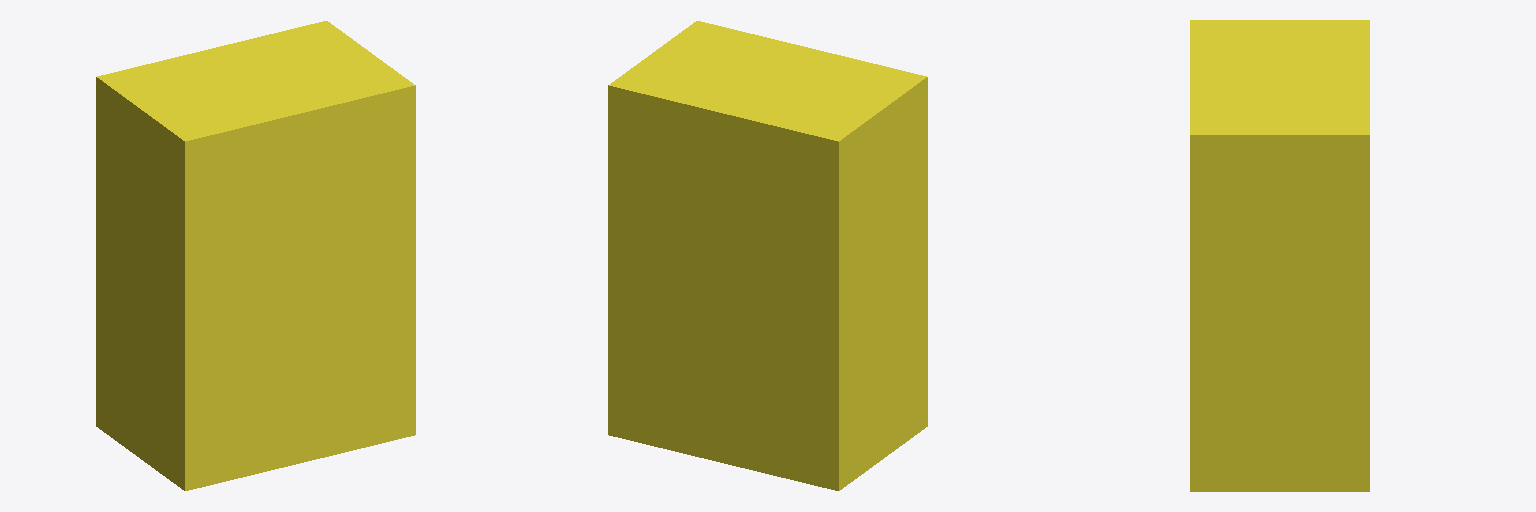
The robot description file, URDF, robot "ur5":
<?xml version="1.0" ?>
<!-- =================================================================================== -->
<!-- |    This document was autogenerated by xacro from ur5_joint_limited_box_robot_robotiq3.urdf.xacro | -->
<!-- |    EDITING THIS FILE BY HAND IS NOT RECOMMENDED                                 | -->
<!-- =================================================================================== -->
<robot name="ur5" xmlns:xacro="http://ros.org/wiki/xacro">
  <gazebo>
    <plugin filename="libgazebo_ros_control.so" name="ros_control">
      <!--robotNamespace>/</robotNamespace-->
      <!--robotSimType>gazebo_ros_control/DefaultRobotHWSim</robotSimType-->
    </plugin>
    <!--
    <plugin name="gazebo_ros_power_monitor_controller" filename="libgazebo_ros_power_monitor.so">
      <alwaysOn>true</alwaysOn>
      <updateRate>1.0</updateRate>
      <timeout>5</timeout>
      <powerStateTopic>power_state</powerStateTopic>
      <powerStateRate>10.0</powerStateRate>
      <fullChargeCapacity>87.78</fullChargeCapacity>     
      <dischargeRate>-474</dischargeRate>
      <chargeRate>525</chargeRate>
      <dischargeVoltage>15.52</dischargeVoltage>
      <chargeVoltage>16.41</chargeVoltage>
    </plugin>
-->
  </gazebo>
  <!-- measured from model -->
  <!--property name="shoulder_height" value="0.089159" /-->
  <!--property name="shoulder_offset" value="0.13585" /-->
  <!-- shoulder_offset - elbow_offset + wrist_1_length = 0.10915 -->
  <!--property name="upper_arm_length" value="0.42500" /-->
  <!--property name="elbow_offset" value="0.1197" /-->
  <!-- CAD measured -->
  <!--property name="forearm_length" value="0.39225" /-->
  <!--property name="wrist_1_length" value="0.093" /-->
  <!-- CAD measured -->
  <!--property name="wrist_2_length" value="0.09465" /-->
  <!-- In CAD this distance is 0.930, but in the spec it is 0.09465 -->
  <!--property name="wrist_3_length" value="0.0823" /-->
  <!-- manually measured -->
  <link name="base_link">
    <visual>
      <geometry>
        <mesh filename="package://ur_description/meshes/ur5/visual/base.dae"/>
      </geometry>
      <material name="LightGrey">
        <color rgba="0.7 0.7 0.7 1.0"/>
      </material>
    </visual>
    <collision>
      <geometry>
        <mesh filename="package://ur_description/meshes/ur5/collision/base.stl"/>
      </geometry>
    </collision>
    <inertial>
      <mass value="4.0"/>
      <origin rpy="0 0 0" xyz="0.0 0.0 0.0"/>
      <inertia ixx="0.00443333156" ixy="0.0" ixz="0.0" iyy="0.00443333156" iyz="0.0" izz="0.0072"/>
    </inertial>
  </link>
  <joint name="shoulder_pan_joint" type="revolute">
    <parent link="base_link"/>
    <child link="shoulder_link"/>
    <origin rpy="0.0 0.0 0.0" xyz="0.0 0.0 0.089159"/>
    <axis xyz="0 0 1"/>
    <limit effort="150.0" lower="-3.14159265" upper="3.14159265" velocity="3.15"/>
    <dynamics damping="0.0" friction="0.0"/>
  </joint>
  <link name="shoulder_link">
    <visual>
      <geometry>
        <mesh filename="package://ur_description/meshes/ur5/visual/shoulder.dae"/>
      </geometry>
      <material name="LightGrey">
        <color rgba="0.7 0.7 0.7 1.0"/>
      </material>
    </visual>
    <collision>
      <geometry>
        <mesh filename="package://ur_description/meshes/ur5/collision/shoulder.stl"/>
      </geometry>
    </collision>
    <inertial>
      <mass value="3.7"/>
      <origin rpy="0 0 0" xyz="0.0 0.0 0.0"/>
      <inertia ixx="0.010267495893" ixy="0.0" ixz="0.0" iyy="0.010267495893" iyz="0.0" izz="0.00666"/>
    </inertial>
  </link>
  <joint name="shoulder_lift_joint" type="revolute">
    <parent link="shoulder_link"/>
    <child link="upper_arm_link"/>
    <origin rpy="0.0 1.570796325 0.0" xyz="0.0 0.13585 0.0"/>
    <axis xyz="0 1 0"/>
    <limit effort="150.0" lower="-3.14159265" upper="-0.9" velocity="3.15"/>
    <!-- <limit effort="150.0" lower="-3.14159265" upper="-0.8" velocity="3.15"/> -->
    <dynamics damping="0.0" friction="0.0"/>
  </joint>
  <link name="upper_arm_link">
    <visual>
      <geometry>
        <mesh filename="package://ur_description/meshes/ur5/visual/upperarm.dae"/>
      </geometry>
      <material name="LightGrey">
        <color rgba="0.7 0.7 0.7 1.0"/>
      </material>
    </visual>
    <collision>
      <geometry>
        <mesh filename="package://ur_description/meshes/ur5/collision/upperarm.stl"/>
      </geometry>
    </collision>
    <inertial>
      <mass value="8.393"/>
      <origin rpy="0 0 0" xyz="0.0 0.0 0.28"/>
      <inertia ixx="0.22689067591" ixy="0.0" ixz="0.0" iyy="0.22689067591" iyz="0.0" izz="0.0151074"/>
    </inertial>
  </link>
  <joint name="elbow_joint" type="revolute">
    <parent link="upper_arm_link"/>
    <child link="forearm_link"/>
    <origin rpy="0.0 0.0 0.0" xyz="0.0 -0.1197 0.425"/>
    <axis xyz="0 1 0"/>
    <limit effort="150.0" lower="-3.14159265" upper="3.14159265" velocity="3.15"/>
    <dynamics damping="0.0" friction="0.0"/>
  </joint>
  <link name="forearm_link">
    <visual>
      <geometry>
        <mesh filename="package://ur_description/meshes/ur5/visual/forearm.dae"/>
      </geometry>
      <material name="LightGrey">
        <color rgba="0.7 0.7 0.7 1.0"/>
      </material>
    </visual>
    <collision>
      <geometry>
        <mesh filename="package://ur_description/meshes/ur5/collision/forearm.stl"/>
      </geometry>
    </collision>
    <inertial>
      <mass value="2.275"/>
      <origin rpy="0 0 0" xyz="0.0 0.0 0.25"/>
      <inertia ixx="0.049443313556" ixy="0.0" ixz="0.0" iyy="0.049443313556" iyz="0.0" izz="0.004095"/>
    </inertial>
  </link>
  <joint name="wrist_1_joint" type="revolute">
    <parent link="forearm_link"/>
    <child link="wrist_1_link"/>
    <origin rpy="0.0 1.570796325 0.0" xyz="0.0 0.0 0.39225"/>
    <axis xyz="0 1 0"/>
    <limit effort="28.0" lower="-3.14159265" upper="3.14159265" velocity="3.2"/>
    <dynamics damping="0.0" friction="0.0"/>
  </joint>
  <link name="wrist_1_link">
    <visual>
      <geometry>
        <mesh filename="package://ur_description/meshes/ur5/visual/wrist1.dae"/>
      </geometry>
      <material name="LightGrey">
        <color rgba="0.7 0.7 0.7 1.0"/>
      </material>
    </visual>
    <collision>
      <geometry>
        <mesh filename="package://ur_description/meshes/ur5/collision/wrist1.stl"/>
      </geometry>
    </collision>
    <inertial>
      <mass value="1.219"/>
      <origin rpy="0 0 0" xyz="0.0 0.0 0.0"/>
      <inertia ixx="0.111172755531" ixy="0.0" ixz="0.0" iyy="0.111172755531" iyz="0.0" izz="0.21942"/>
    </inertial>
  </link>
  <joint name="wrist_2_joint" type="revolute">
    <parent link="wrist_1_link"/>
    <child link="wrist_2_link"/>
    <origin rpy="0.0 0.0 0.0" xyz="0.0 0.093 0.0"/>
    <axis xyz="0 0 1"/>
    <limit effort="28.0" lower="-3.14159265" upper="3.14159265" velocity="3.2"/>
    <dynamics damping="0.0" friction="0.0"/>
  </joint>
  <link name="wrist_2_link">
    <visual>
      <geometry>
        <mesh filename="package://ur_description/meshes/ur5/visual/wrist2.dae"/>
      </geometry>
      <material name="LightGrey">
        <color rgba="0.7 0.7 0.7 1.0"/>
      </material>
    </visual>
    <collision>
      <geometry>
        <mesh filename="package://ur_description/meshes/ur5/collision/wrist2.stl"/>
      </geometry>
    </collision>
    <inertial>
      <mass value="1.219"/>
      <origin rpy="0 0 0" xyz="0.0 0.0 0.0"/>
      <inertia ixx="0.111172755531" ixy="0.0" ixz="0.0" iyy="0.111172755531" iyz="0.0" izz="0.21942"/>
    </inertial>
  </link>
  <joint name="wrist_3_joint" type="revolute">
    <parent link="wrist_2_link"/>
    <child link="wrist_3_link"/>
    <origin rpy="0.0 0.0 0.0" xyz="0.0 0.0 0.09465"/>
    <axis xyz="0 1 0"/>
    <limit effort="28.0" lower="-3.14159265" upper="3.14159265" velocity="3.2"/>
    <dynamics damping="0.0" friction="0.0"/>
  </joint>
  <link name="wrist_3_link">
    <visual>
      <geometry>
        <mesh filename="package://ur_description/meshes/ur5/visual/wrist3.dae"/>
      </geometry>
      <material name="LightGrey">
        <color rgba="0.7 0.7 0.7 1.0"/>
      </material>
    </visual>
    <collision>
      <geometry>
        <mesh filename="package://ur_description/meshes/ur5/collision/wrist3.stl"/>
      </geometry>
    </collision>
    <inertial>
      <mass value="0.1879"/>
      <origin rpy="0 0 0" xyz="0.0 0.0 0.0"/>
      <inertia ixx="0.0171364731454" ixy="0.0" ixz="0.0" iyy="0.0171364731454" iyz="0.0" izz="0.033822"/>
    </inertial>
  </link>
  <joint name="ee_fixed_joint" type="fixed">
    <parent link="wrist_3_link"/>
    <child link="ee_link"/>
    <origin rpy="0.0 0.0 1.570796325" xyz="0.0 0.0823 0.0"/>
  </joint>
  <link name="ee_link">
    <collision>
      <geometry>
        <box size="0.01 0.01 0.01"/>
      </geometry>
      <origin rpy="0 0 0" xyz="-0.01 0 0"/>
    </collision>
  </link>
  <transmission name="shoulder_pan_trans">
    <type>transmission_interface/SimpleTransmission</type>
    <joint name="shoulder_pan_joint">
      <hardwareInterface>PositionJointInterface</hardwareInterface>
    </joint>
    <actuator name="shoulder_pan_motor">
      <mechanicalReduction>1</mechanicalReduction>
    </actuator>
  </transmission>
  <transmission name="shoulder_lift_trans">
    <type>transmission_interface/SimpleTransmission</type>
    <joint name="shoulder_lift_joint">
      <hardwareInterface>PositionJointInterface</hardwareInterface>
    </joint>
    <actuator name="shoulder_lift_motor">
      <mechanicalReduction>1</mechanicalReduction>
    </actuator>
  </transmission>
  <transmission name="elbow_trans">
    <type>transmission_interface/SimpleTransmission</type>
    <joint name="elbow_joint">
      <hardwareInterface>PositionJointInterface</hardwareInterface>
    </joint>
    <actuator name="elbow_motor">
      <mechanicalReduction>1</mechanicalReduction>
    </actuator>
  </transmission>
  <transmission name="wrist_1_trans">
    <type>transmission_interface/SimpleTransmission</type>
    <joint name="wrist_1_joint">
      <hardwareInterface>PositionJointInterface</hardwareInterface>
    </joint>
    <actuator name="wrist_1_motor">
      <mechanicalReduction>1</mechanicalReduction>
    </actuator>
  </transmission>
  <transmission name="wrist_2_trans">
    <type>transmission_interface/SimpleTransmission</type>
    <joint name="wrist_2_joint">
      <hardwareInterface>PositionJointInterface</hardwareInterface>
    </joint>
    <actuator name="wrist_2_motor">
      <mechanicalReduction>1</mechanicalReduction>
    </actuator>
  </transmission>
  <transmission name="wrist_3_trans">
    <type>transmission_interface/SimpleTransmission</type>
    <joint name="wrist_3_joint">
      <hardwareInterface>PositionJointInterface</hardwareInterface>
    </joint>
    <actuator name="wrist_3_motor">
      <mechanicalReduction>1</mechanicalReduction>
    </actuator>
  </transmission>
  <!-- nothing to do here at the moment -->
  <!-- ROS base_link to UR 'Base' Coordinates transform -->
  <link name="base"/>
  <joint name="base_link-base_fixed_joint" type="fixed">
    <!-- NOTE: this rotation is only needed as long as base_link itself is
                 not corrected wrt the real robot (ie: rotated over 180
                 degrees)
      -->
    <origin rpy="0 0 -3.14159265" xyz="0 0 0"/>
    <parent link="base_link"/>
    <child link="base"/>
  </joint>
  <!-- Frame coincident with all-zeros TCP on UR controller -->
  <link name="tool0"/>
  <joint name="wrist_3_link-tool0_fixed_joint" type="fixed">
    <origin rpy="-1.570796325 0 0" xyz="0 0.0823 0"/>
    <parent link="wrist_3_link"/>
    <child link="tool0"/>
  </joint>
  <link name="world"/>
  <!-- box -->
  <link name="box_link">
    <visual>
      <geometry>
        <box size=".6 .4 0.87"/>
      </geometry>
    </visual>
  </link>
  <!-- attach the box to the world-->
  <joint name="world_joint" type="fixed">
    <parent link="world"/>
    <child link="box_link"/>
    <origin rpy="0.0 0.0 0.0" xyz="0.0 0 0.435"/>
  </joint>
  <!-- attach the robot to the box -->
  <joint name="box_joint" type="fixed">
    <parent link="box_link"/>
    <child link="base_link"/>
    <origin rpy="0.0 0.0 0.0" xyz="0.0 0.0 0.435"/>
  </joint>
</robot>

--- Render facts (derived) ---
The picture shows the robot from 3 angles, left to right: view 1: azimuth 30°, elevation 25°; view 2: azimuth 150°, elevation 25°; view 3: azimuth 270°, elevation 25°; orthographic projection.
Model ur5 with 12 links and 11 joints (6 revolute, 5 fixed), rooted at world, posed joints at zero except 1 at the middle of their limits (shoulder_lift_joint = -2.02).
Links seen in each view (by area): view 1: box_link; view 2: box_link; view 3: box_link.
Boxes of the visible links, x1=… form: box_link: x1=96, y1=21, x2=415, y2=490; box_link: x1=608, y1=21, x2=927, y2=490; box_link: x1=1190, y1=20, x2=1369, y2=491.
Bounding box of the posed robot: 0.6 × 0.4 × 0.87 m (x, y, z).
Meshes: 7 distinct files referenced, 0 mesh visuals loaded (none loaded); not drawn: 7 (reference not matched to a file when rendering).